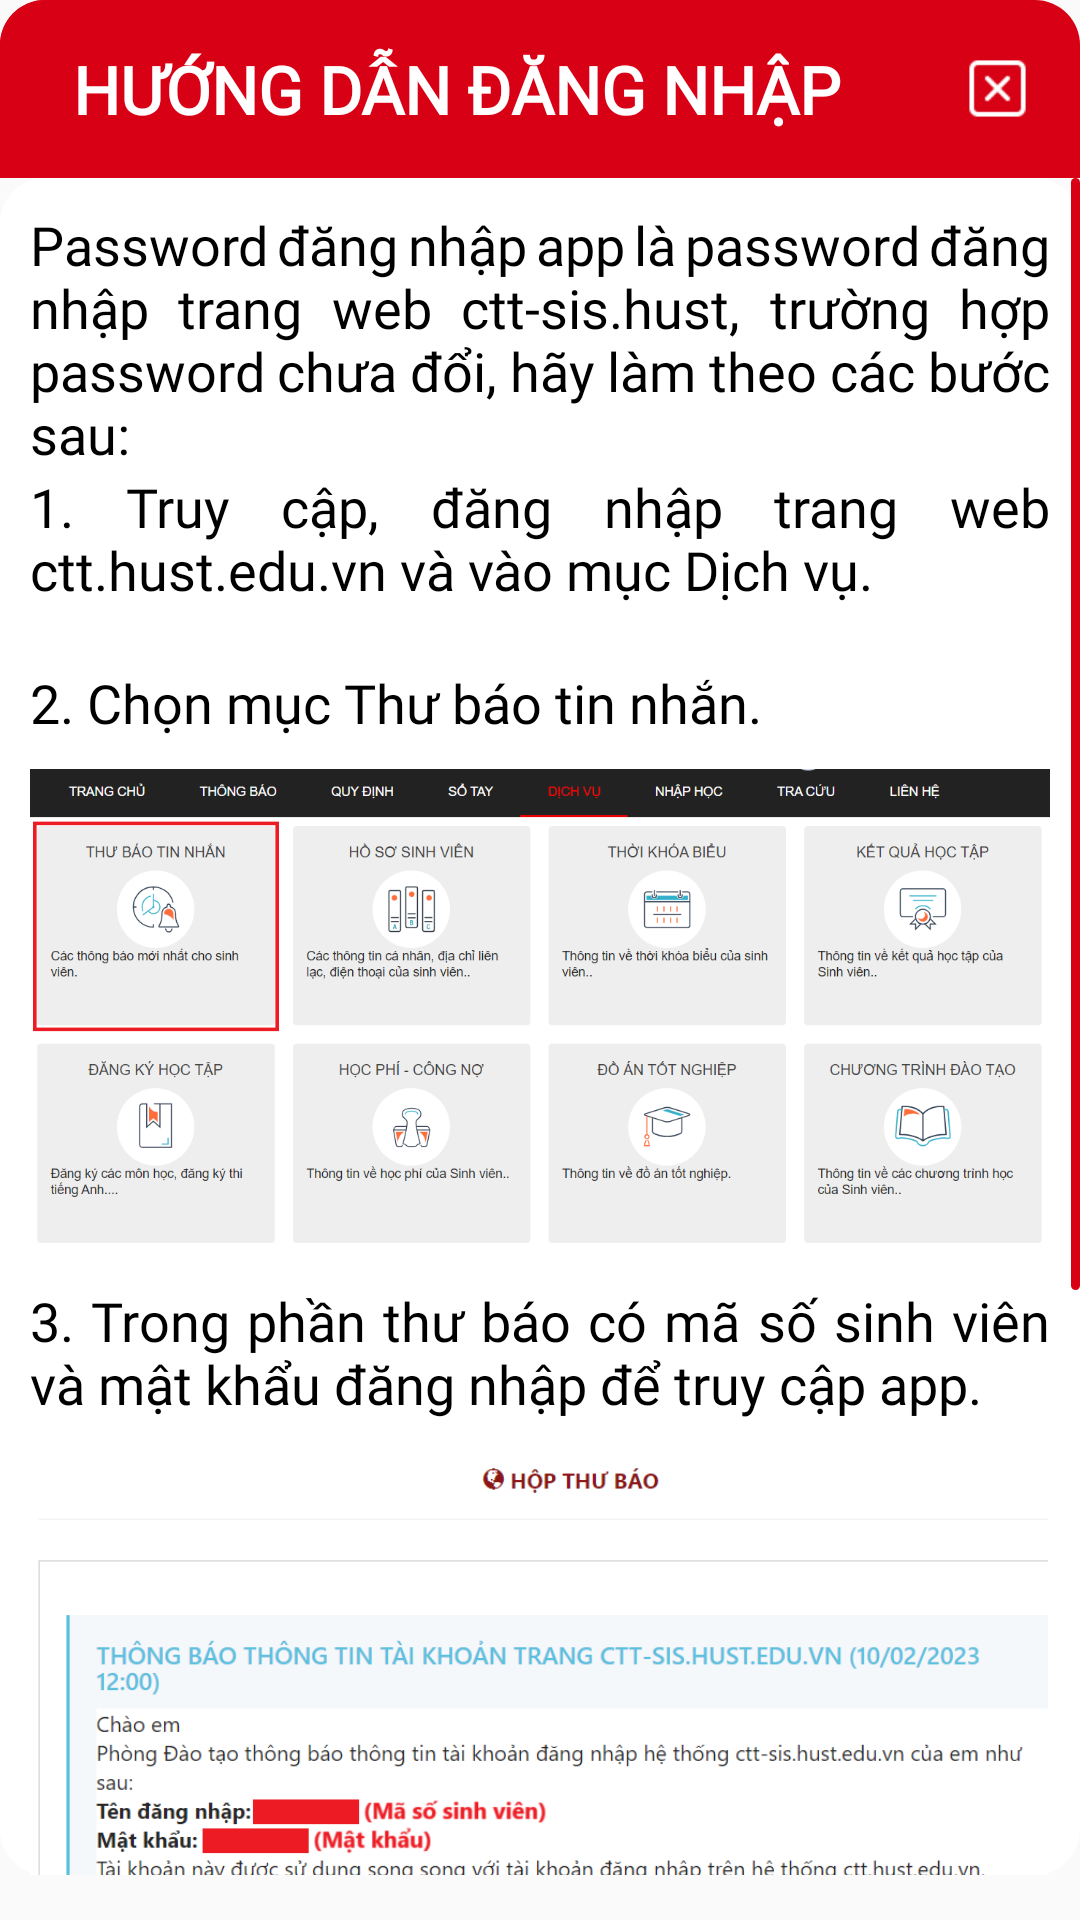

Where icons sit on this 1080w x 1920h app screen, as (x1,y1,x2,y2):
close: (969,60,1026,117)
